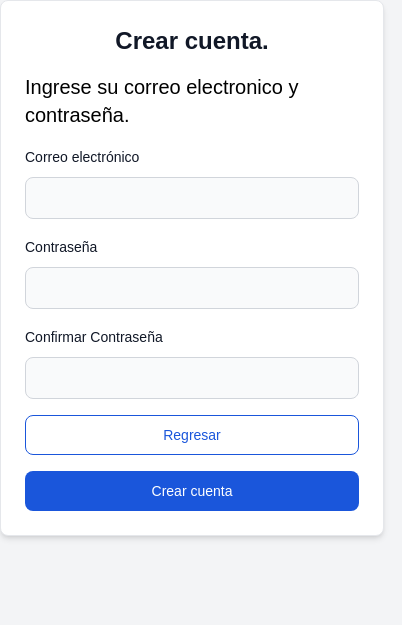
Test case: UserRegistration › shows validation error for empty password field
The image size is (402, 625).
Step 1. Type "test@example.com" into the field labelled "Correo electrónico" → (192, 198), box [25,177,359,219]
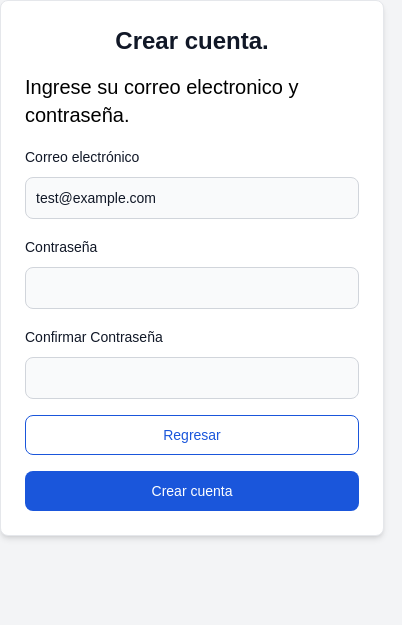
Step 2. Type "SomePassword123!" into the password field with test id "confirmPassword" → (192, 378), box [25,357,359,399]
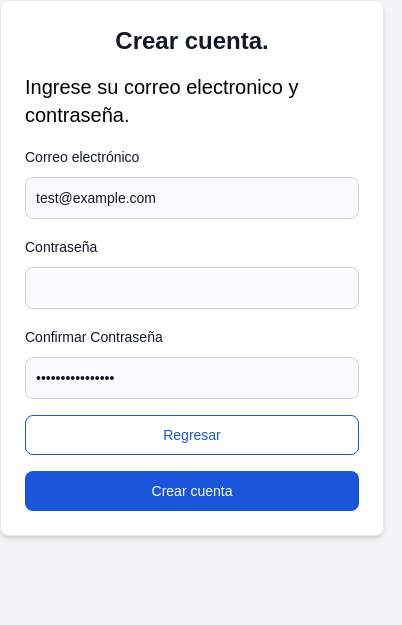
Step 3. Click the button "Crear cuenta" → (192, 491), box [25,471,359,511]
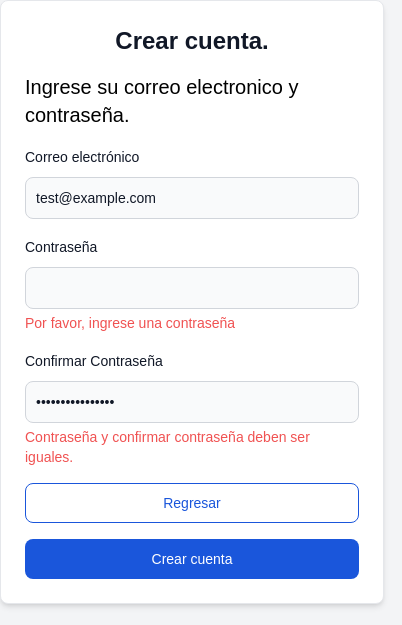
Expected: the text "Por favor, ingrese una contraseña" is shown, [25,315,235,331]
